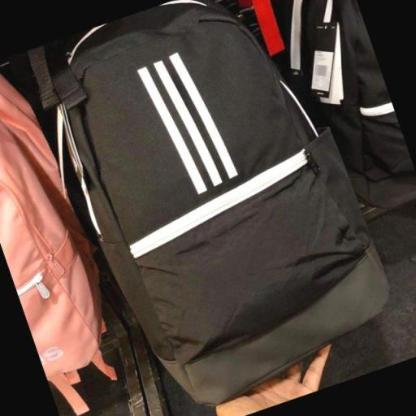bag: (59, 0, 396, 400)
